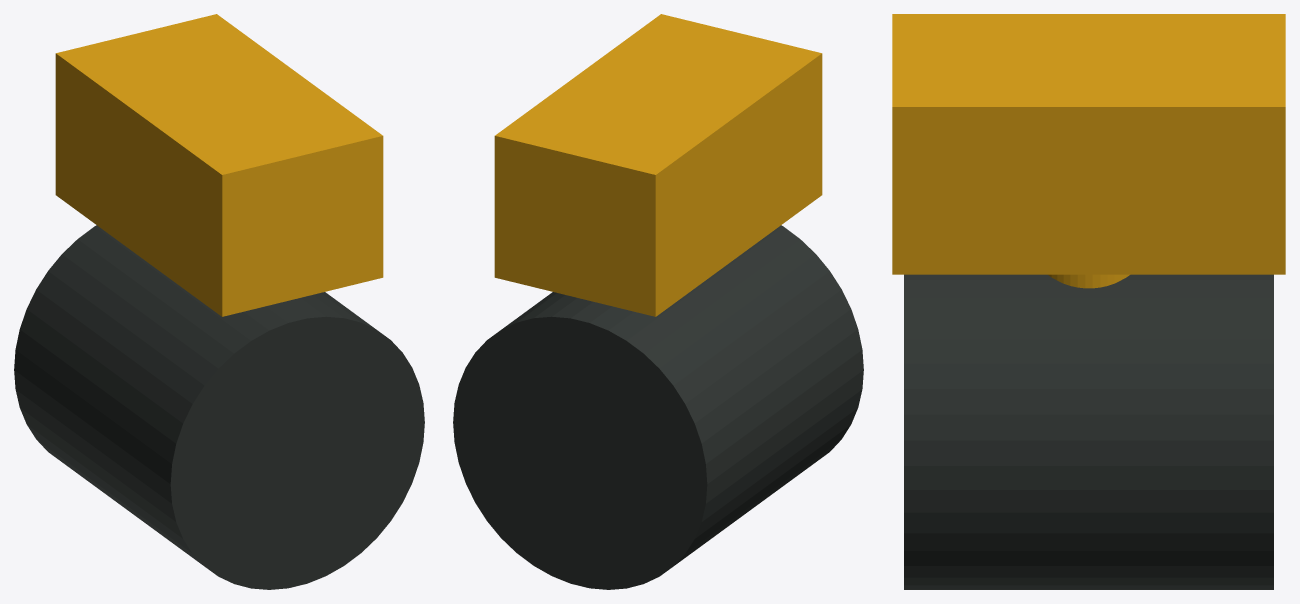
The model's file is auger_feed_link.obj.
The picture shows the model from 3 angles, left to right: view 1: azimuth 30°, elevation 25°; view 2: azimuth 150°, elevation 25°; view 3: azimuth 270°, elevation 25°; orthographic projection. The views are drawn at different scales.
Visible parts, largest first — view 1: motor_0, carriage_1; view 2: motor_0, carriage_1; view 3: motor_0, carriage_1.
Part boxes in pixels (x1=…): motor_0: x1=14, y1=225, x2=424, y2=589; carriage_1: x1=55, y1=14, x2=383, y2=316; motor_0: x1=453, y1=225, x2=863, y2=589; carriage_1: x1=494, y1=14, x2=822, y2=316; motor_0: x1=904, y1=274, x2=1273, y2=589; carriage_1: x1=892, y1=14, x2=1285, y2=288.
Size of the model in its own units: 0.15 by 0.2448 by 0.17.
